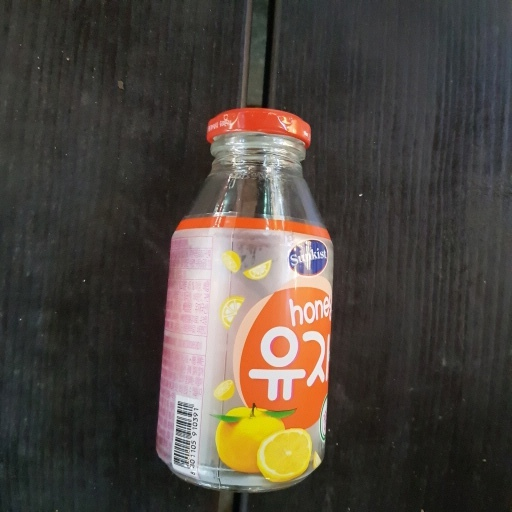Glass_4: (156, 107, 332, 491)
